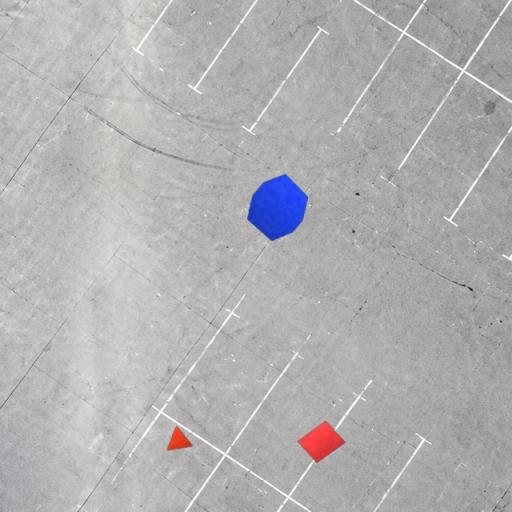RED_SQUARE: (297, 420, 346, 464)
